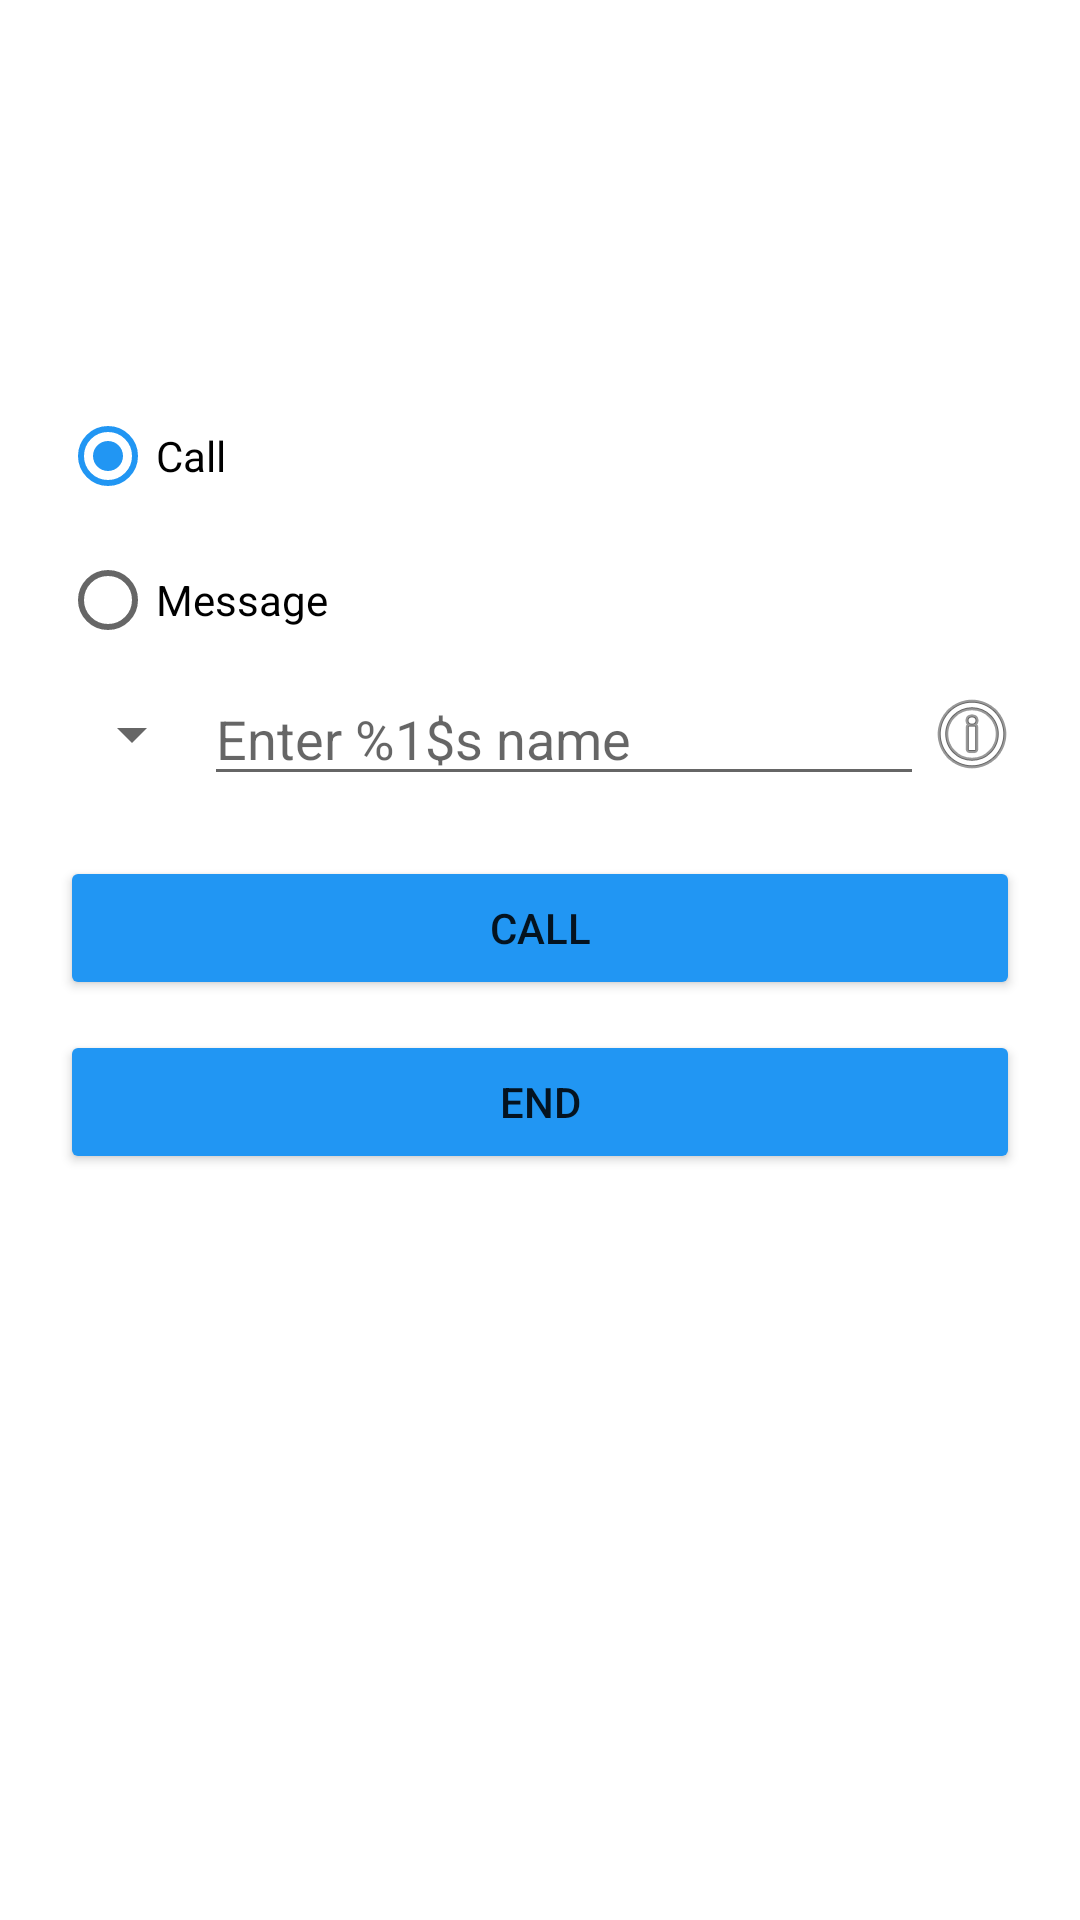

Named icons in this screenshot (1080*1920) and their bounding boxes, (x1, y1, x2, y2):
info details: (937, 699, 1007, 769)
